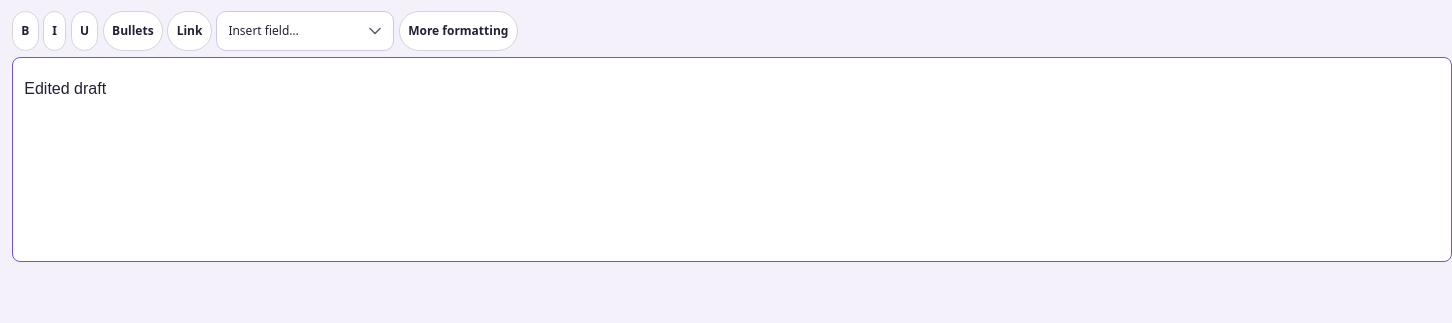
Test: the message box › reveals all extra formatting without replacing the message
Later steps or results of the test are not shown.
expect the button "Indent" is not shown: met
Click the button "More formatting".
click(458, 31)  # box [399,11,518,51]
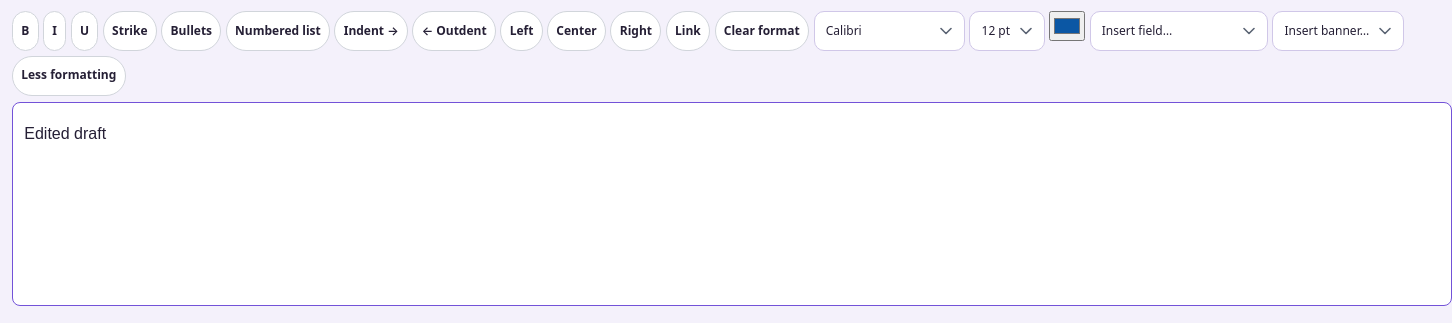
expect the button "Indent →" is shown: met, box [334,11,408,51]
expect the dropdown named "Insert banner" is shown: met, box [1272,11,1404,51]
